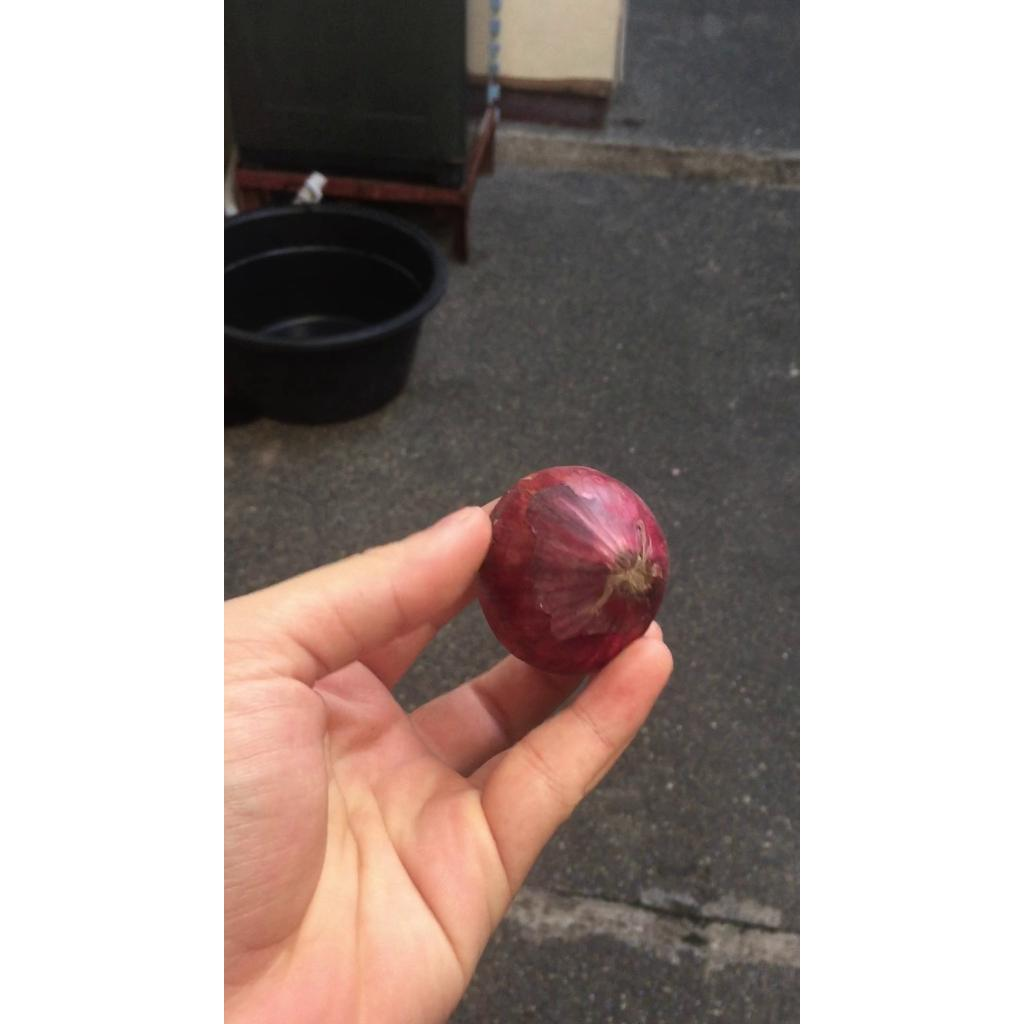Onion: (478, 466, 669, 674)
